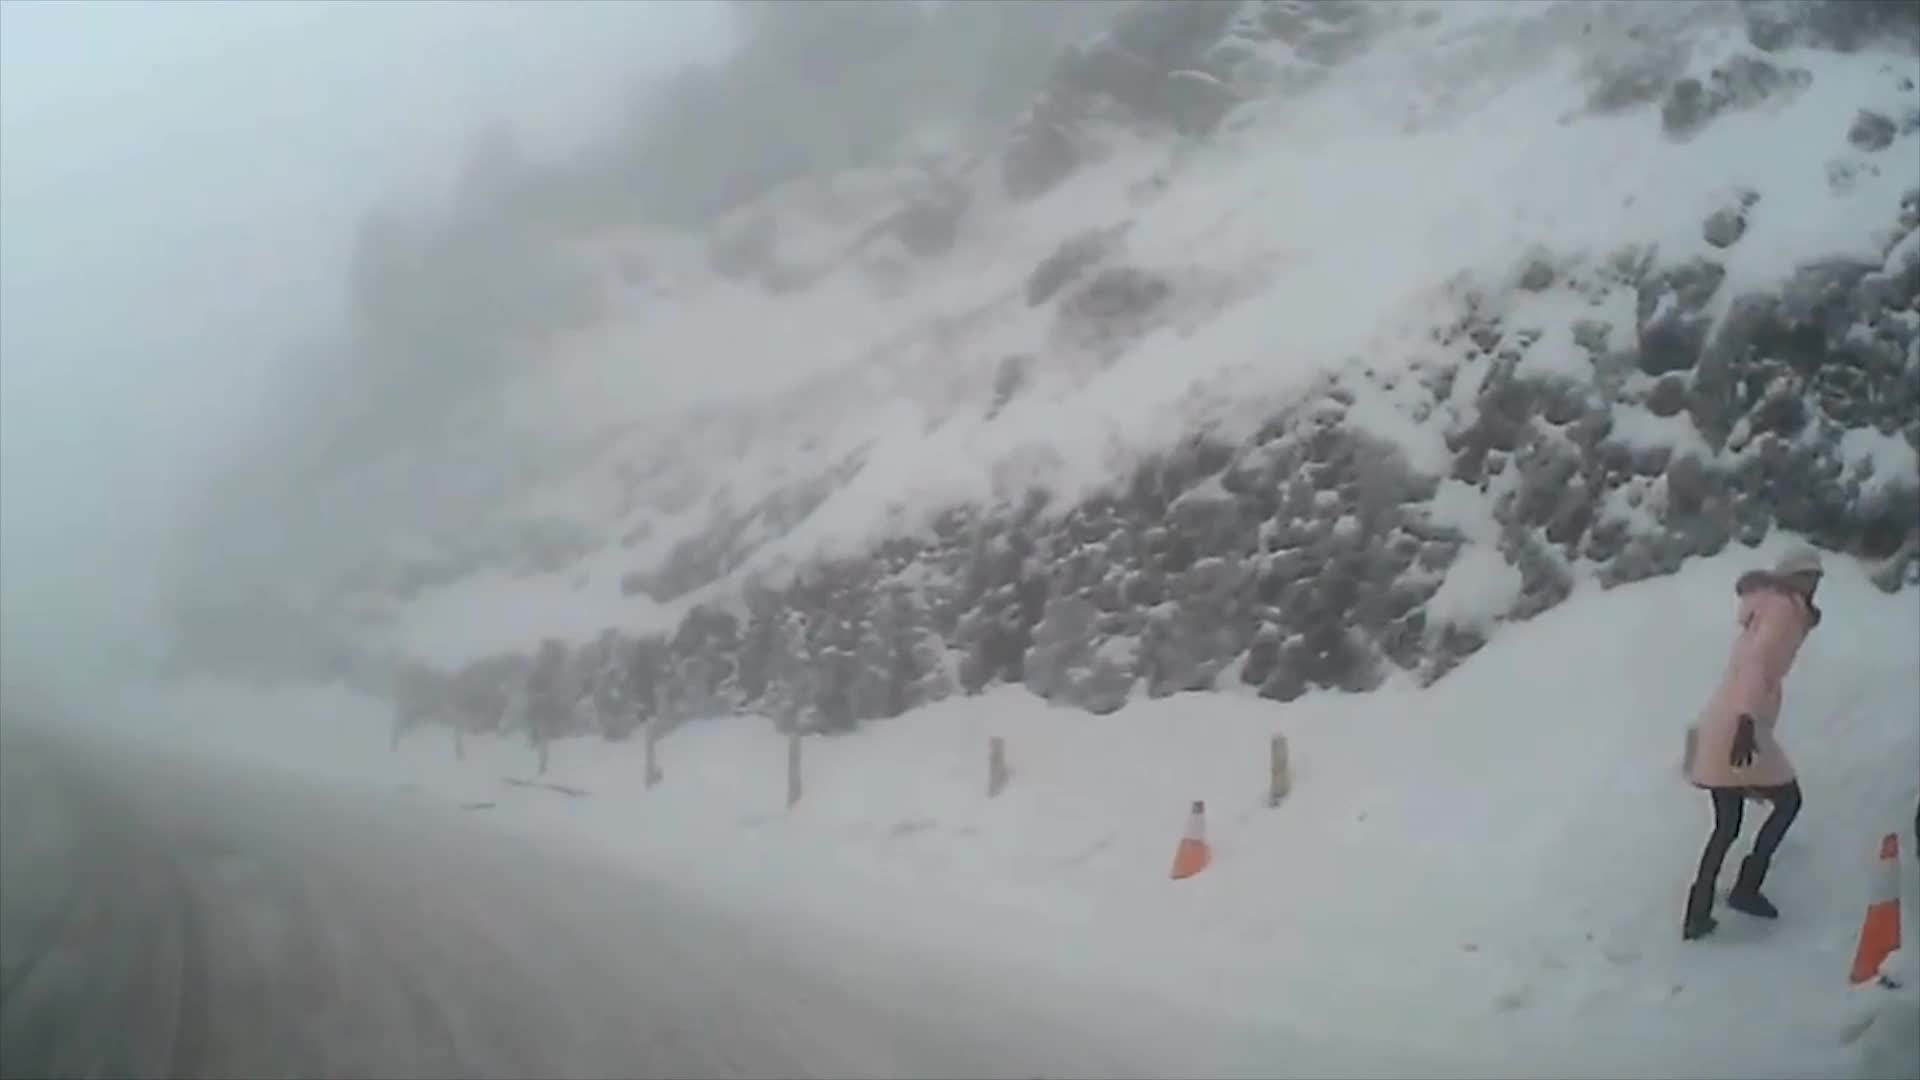pedestrian: (1683, 542, 1833, 939)
